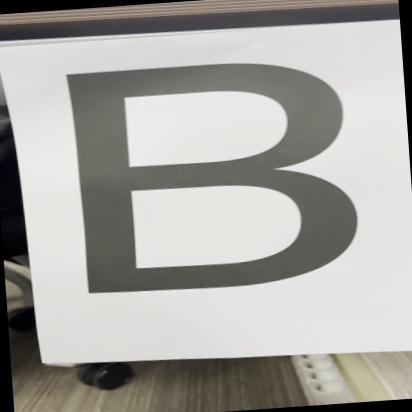seat: (38, 37, 382, 310)
